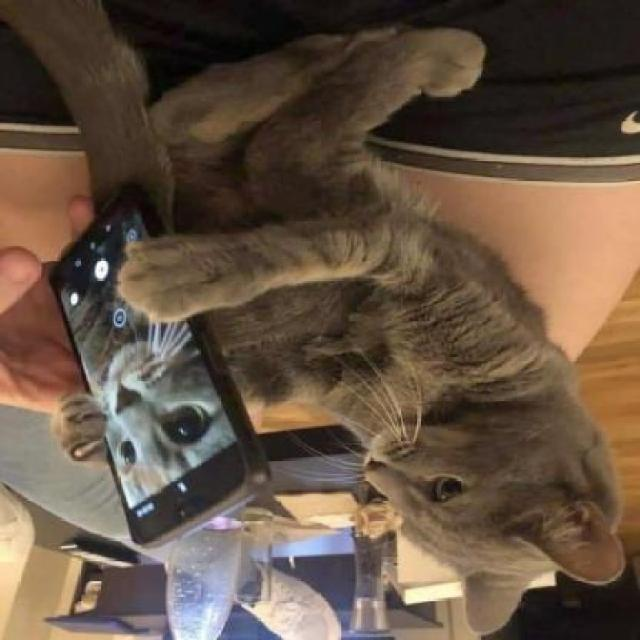cat: (218, 212, 632, 640), (84, 313, 214, 465)
